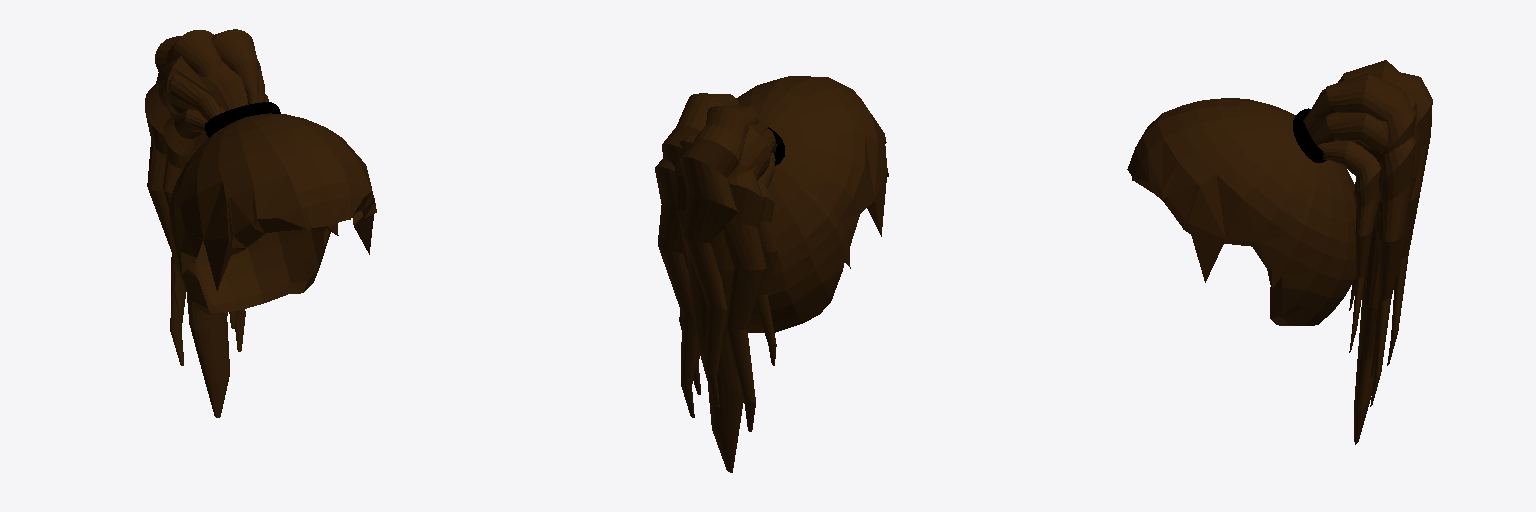
Rendered from ponytail.obj.
The picture shows the model from 3 angles: view 1: azimuth 30°, elevation 25°; view 2: azimuth 150°, elevation 25°; view 3: azimuth 270°, elevation 25°; orthographic projection.
Parts seen in each view (by area): view 1: pSphere2; view 2: pSphere2; view 3: pSphere2.
Boxes of the visible parts, x1=… form: pSphere2: x1=145, y1=29, x2=376, y2=417; pSphere2: x1=655, y1=76, x2=888, y2=472; pSphere2: x1=1127, y1=60, x2=1432, y2=444.
Size of the model in its own units: 1.31 by 2.89 by 2.11.